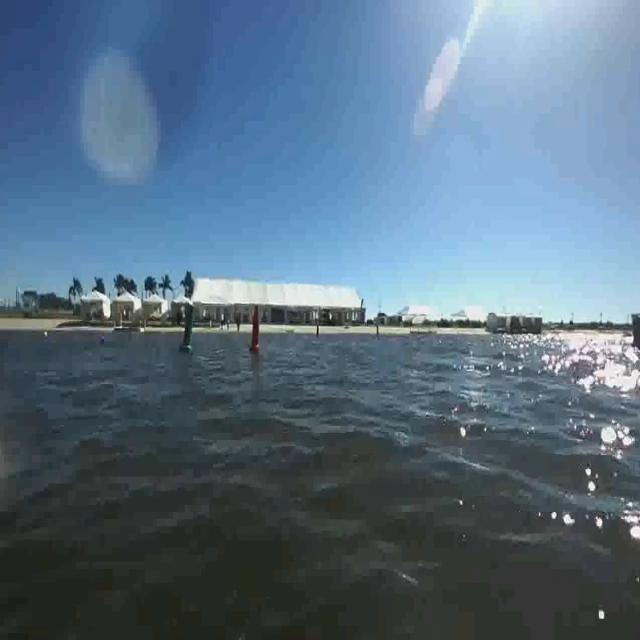green-column-buoy: (182, 307, 198, 353)
red-column-buoy: (250, 308, 262, 354)
